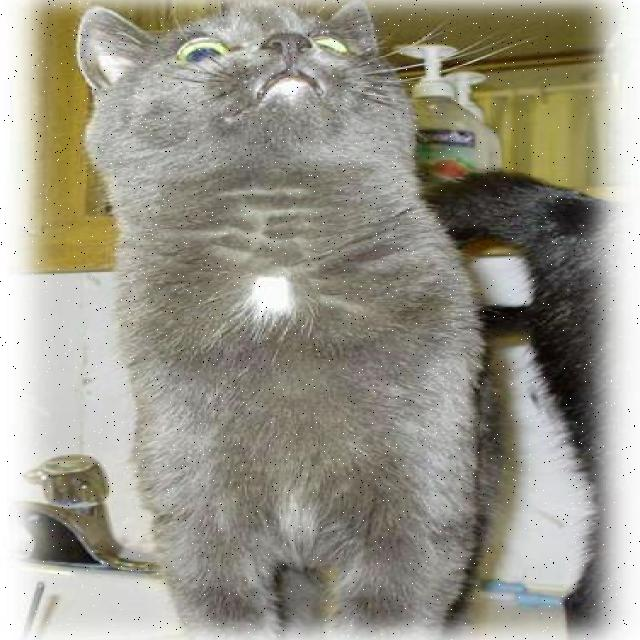Cat: (61, 0, 434, 273)
